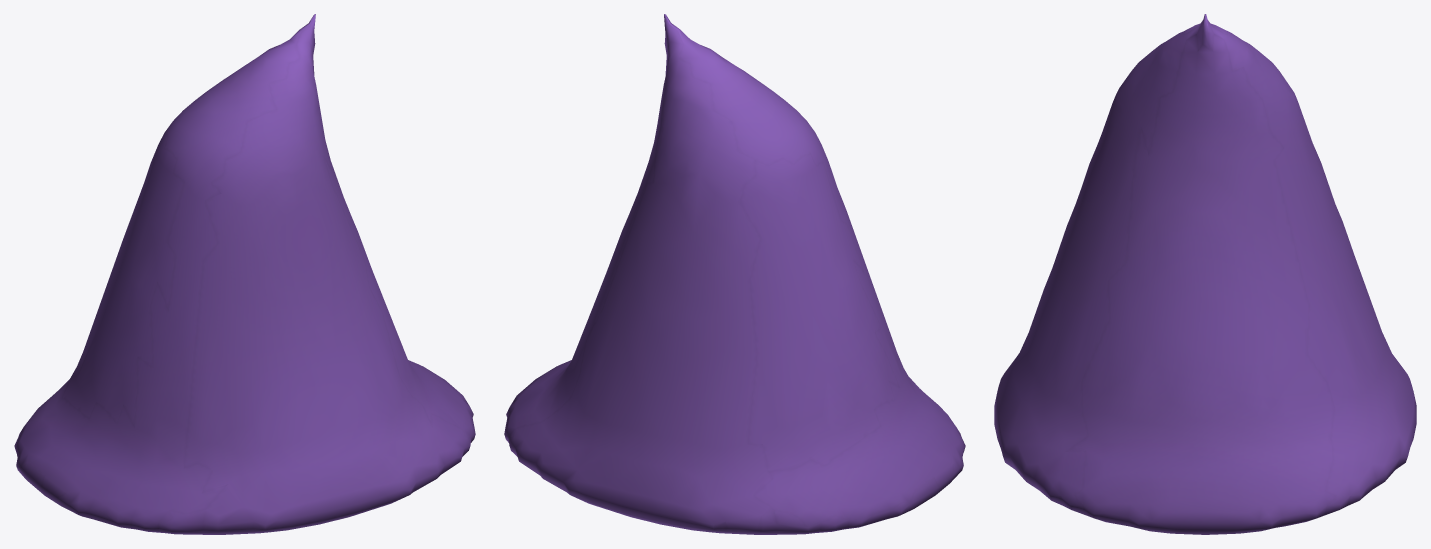
File: item_hat.glb
3 renders of one model, left to right at view 1: azimuth 30°, elevation 25°; view 2: azimuth 150°, elevation 25°; view 3: azimuth 270°, elevation 25°, orthographic. The views are drawn at different scales.
Parts seen in each view (by area): view 1: hat; view 2: hat; view 3: hat.
Boxes of the visible parts, <box> form: hat: <box>14,14,475,534</box>; hat: <box>504,14,965,534</box>; hat: <box>994,14,1416,534</box>.
Size of the model in its own units: 0.5544 by 0.5783 by 0.46.
1 material, 1 textured.
